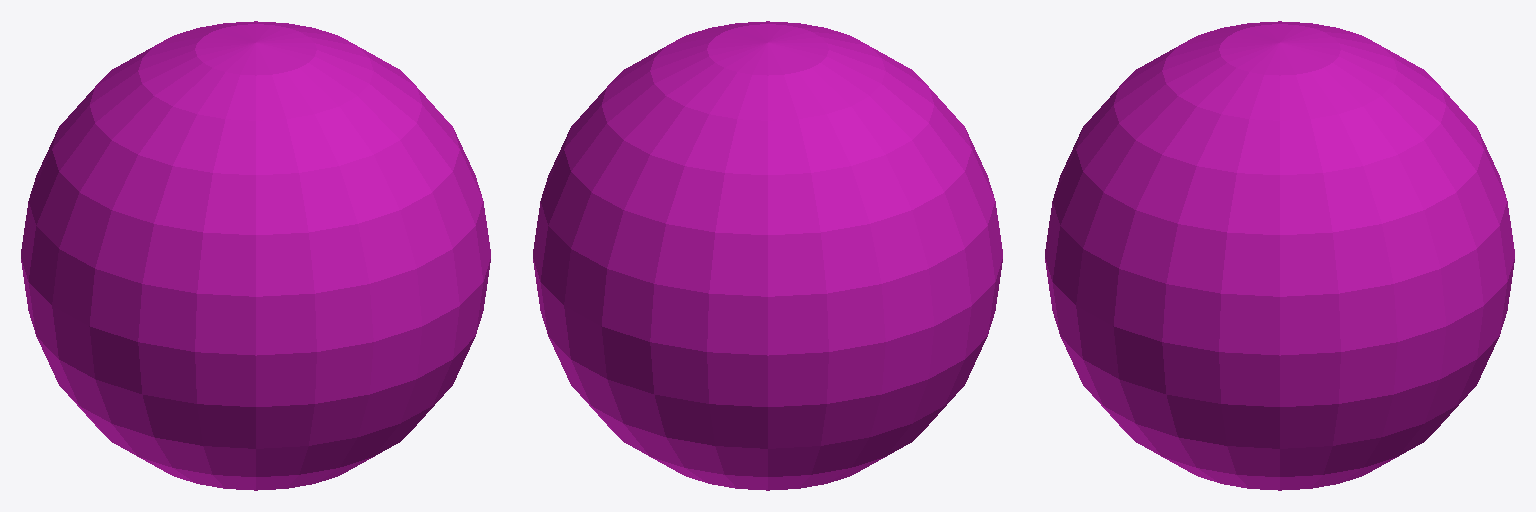
3 renders of one model, left to right at view 1: azimuth 30°, elevation 25°; view 2: azimuth 150°, elevation 25°; view 3: azimuth 270°, elevation 25°, orthographic.
Parts seen in each view (by area): view 1: Kugel; view 2: Kugel; view 3: Kugel.
Boxes of the visible parts, box(x1,y1,x2,y2) form: Kugel: box(21, 21, 490, 490); Kugel: box(533, 21, 1002, 490); Kugel: box(1045, 21, 1514, 490).
Size of the model in its own units: 200 by 200 by 200.